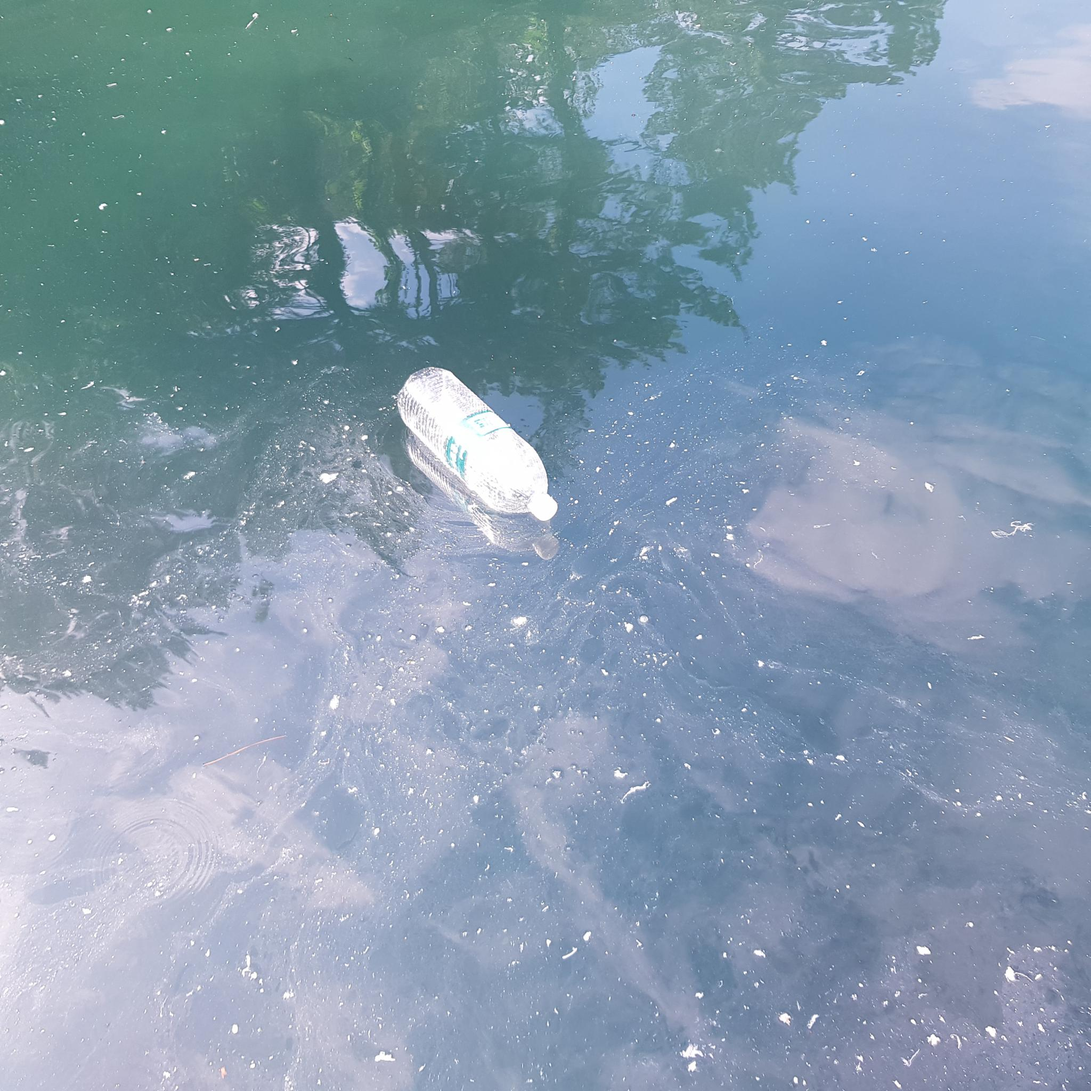sampah_terapung: (397, 367, 558, 521)
